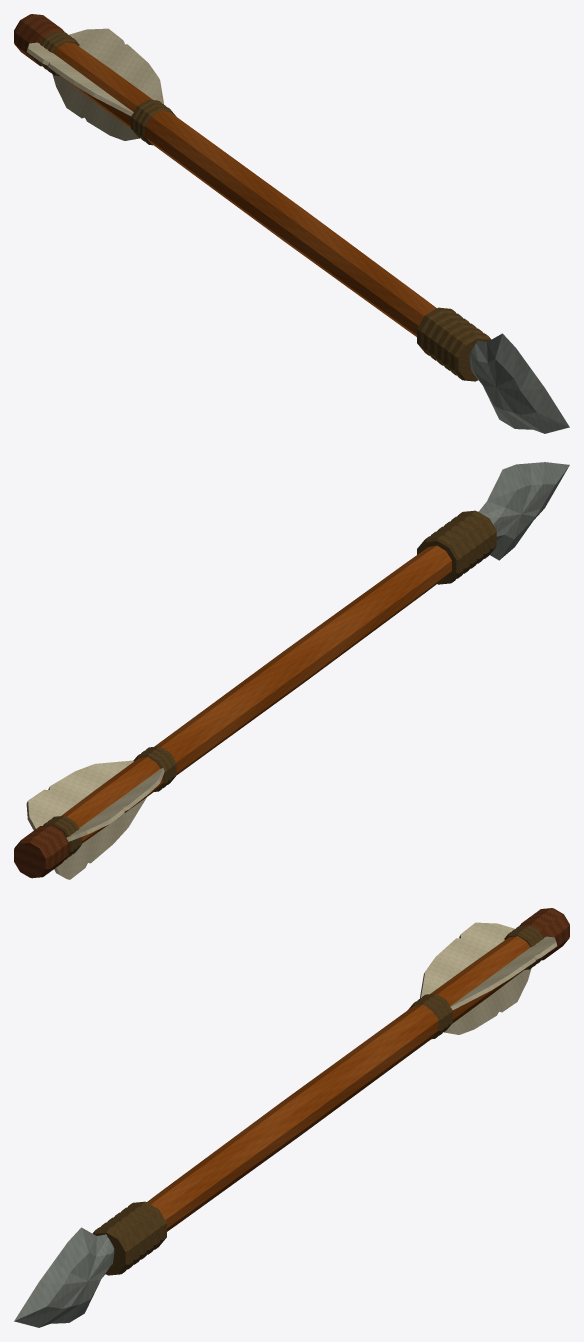
The model's file is AuxiliaStoneCrossbowBolt.fbx.
The picture shows the model from 3 angles, top to bottom: view 1: azimuth 30°, elevation 25°; view 2: azimuth 150°, elevation 25°; view 3: azimuth 330°, elevation 25°; orthographic projection.
Visible parts, largest first — view 1: AuxiliaStoneCrossbowBolt_GameExport; view 2: AuxiliaStoneCrossbowBolt_GameExport; view 3: AuxiliaStoneCrossbowBolt_GameExport.
Part boxes in pixels (x1,y1,x2,y2): AuxiliaStoneCrossbowBolt_GameExport: [14, 14, 569, 433]; AuxiliaStoneCrossbowBolt_GameExport: [14, 462, 569, 879]; AuxiliaStoneCrossbowBolt_GameExport: [14, 908, 569, 1327].
Size of the model in its own units: 1.29 by 14.46 by 1.36.
